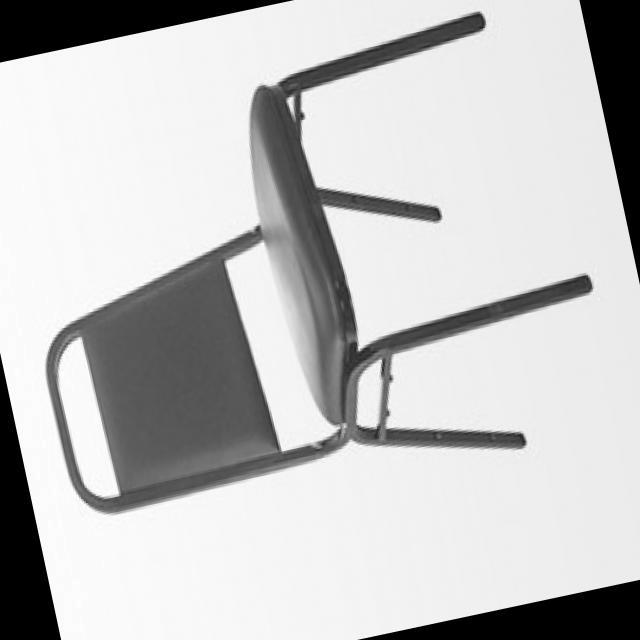chair: (0, 0, 626, 549)
